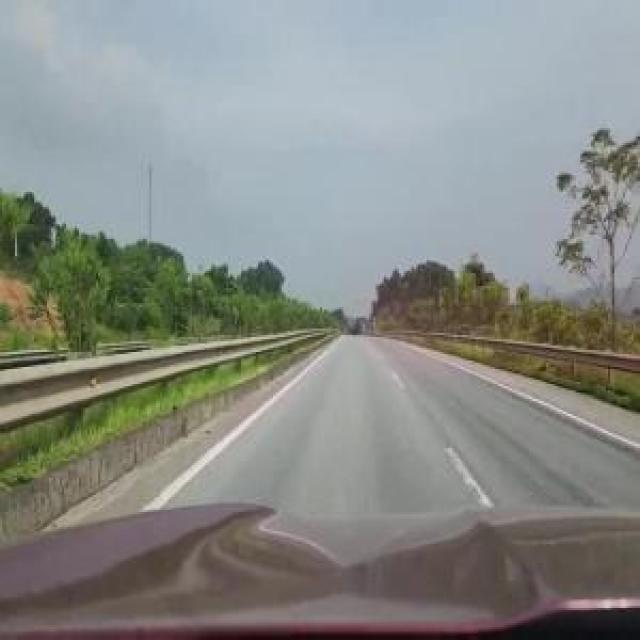clear-road: (171, 337, 640, 514)
